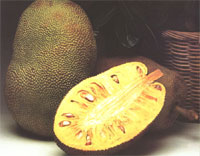jackfruit: (6, 0, 97, 139), (52, 60, 167, 155)
